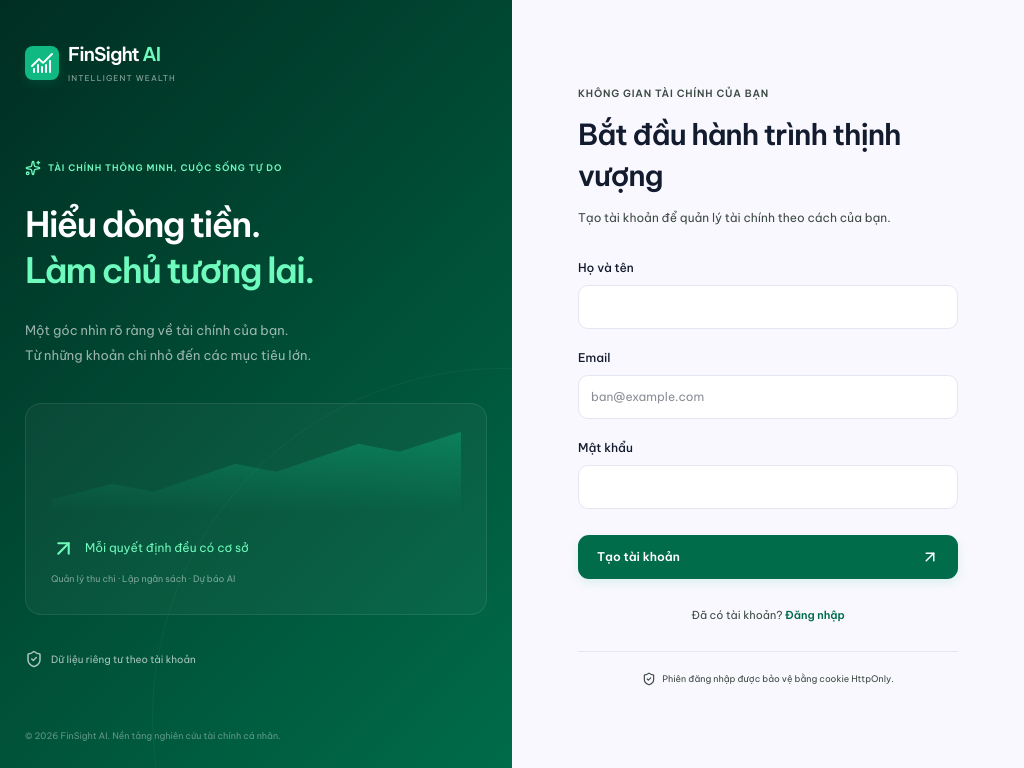
Test: Authentication forms › rejects short registration passwords before contacting backend
In the field labelled "Họ và tên": (768, 306) [578,284,958,328], type "An"
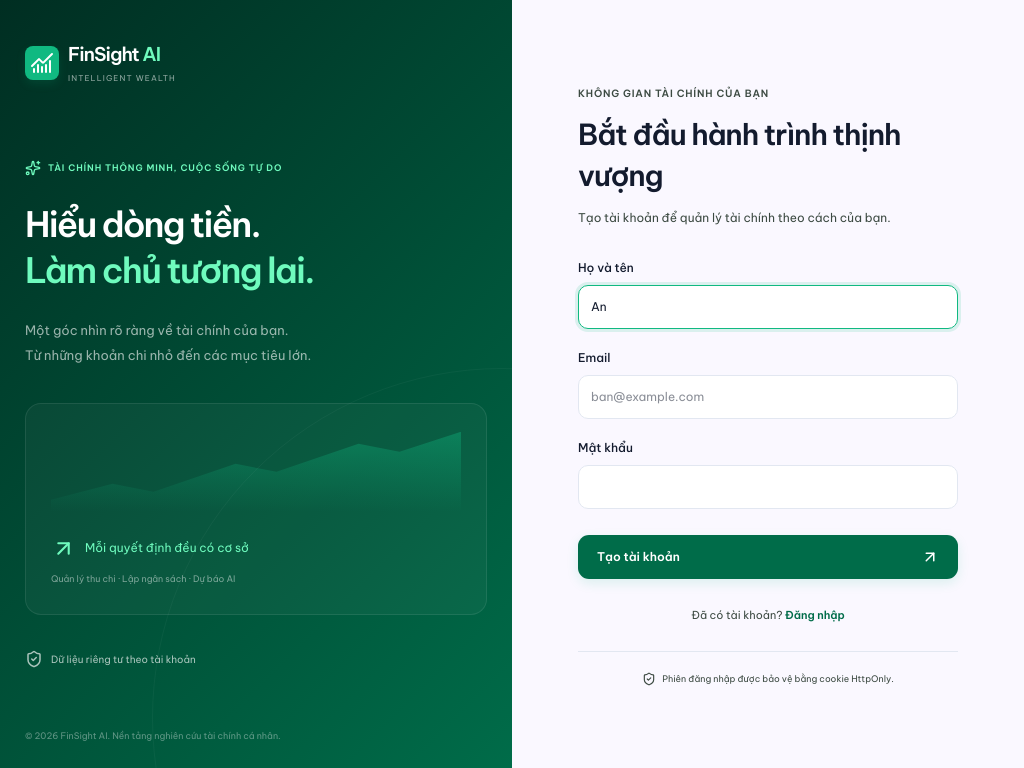
In the field labelled "Email": (768, 396) [578,374,958,418], type "an@example.com"
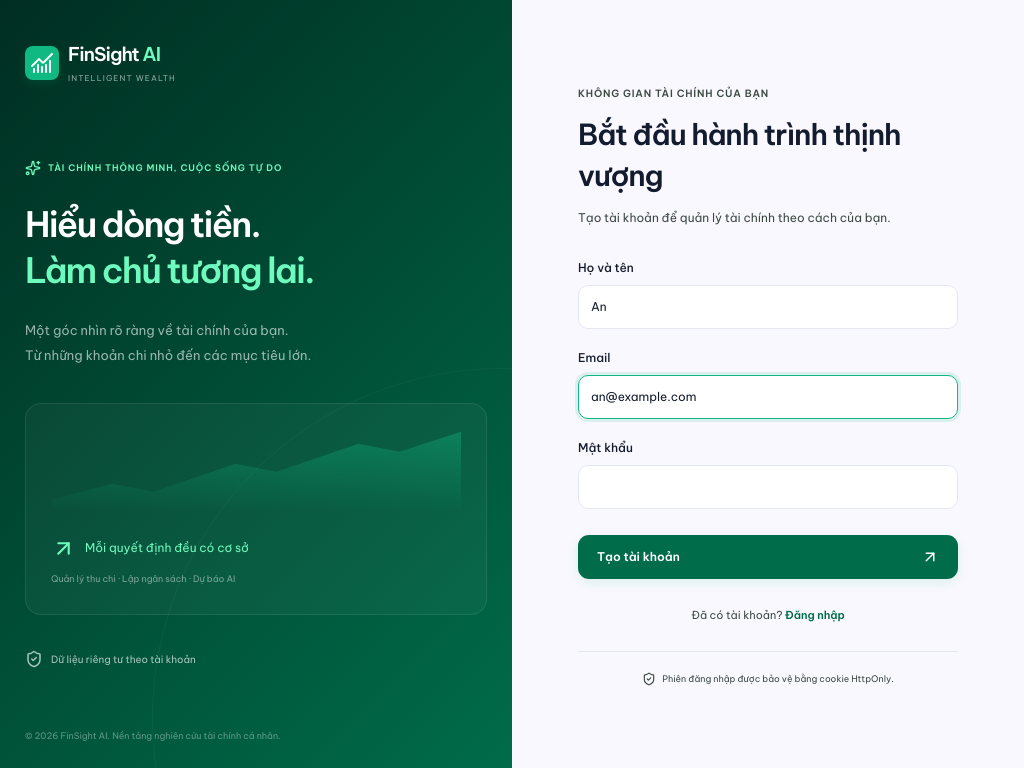
In the password field labelled "Mật khẩu": (768, 486) [578,464,958,508], type "short"
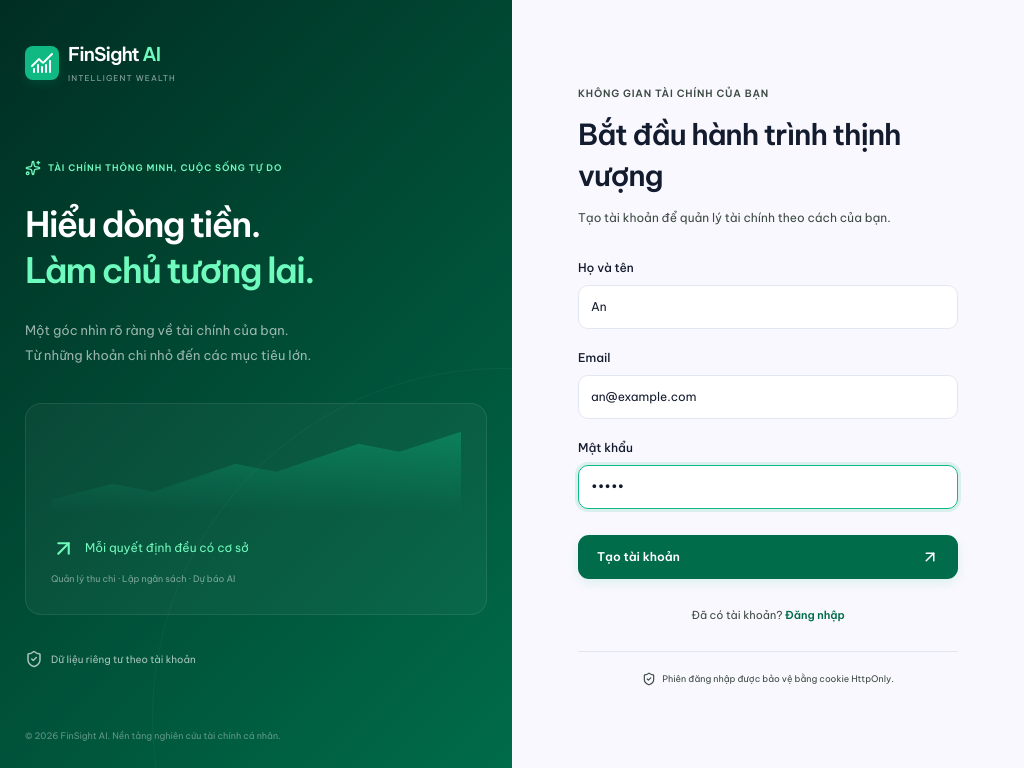
Click the button "Tạo tài khoản": (638, 556) [578,534,958,578]
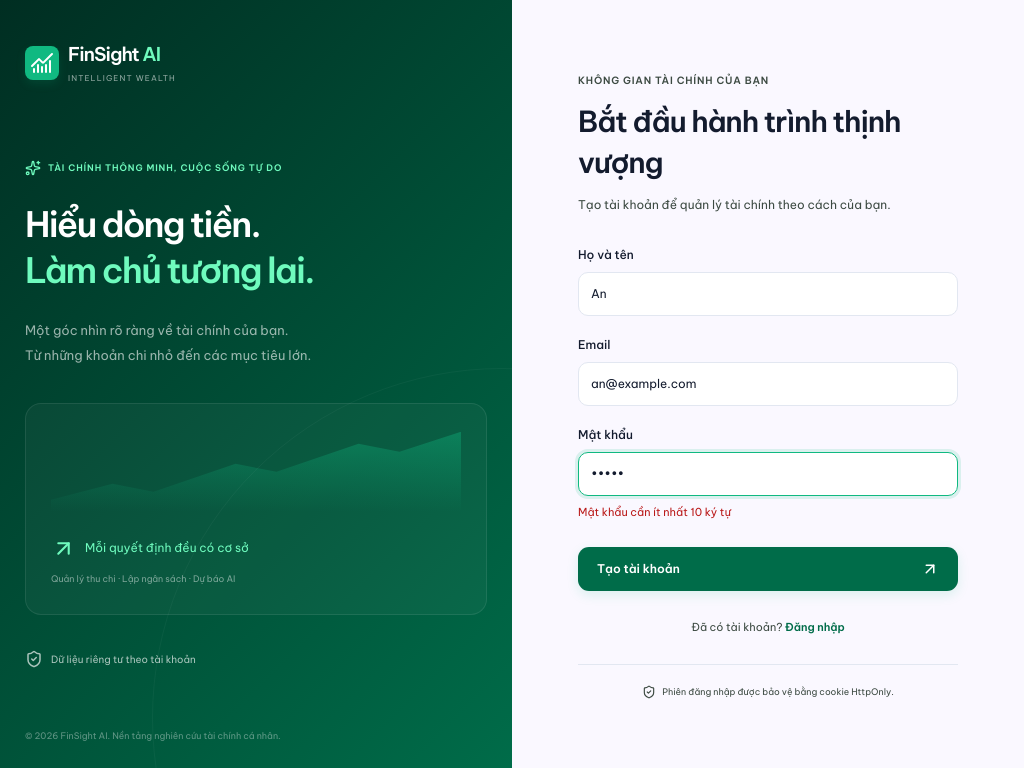
Now the message shows "ít nhất 10", box [578,505,731,519]
